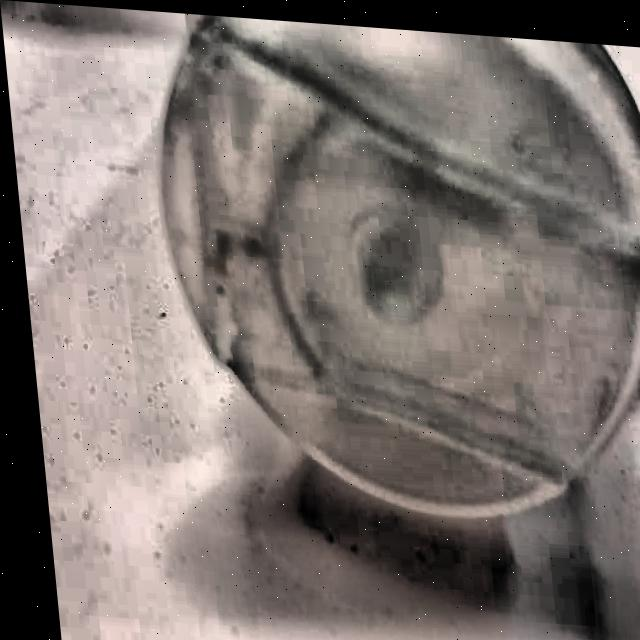plastic: (139, 11, 640, 544)
